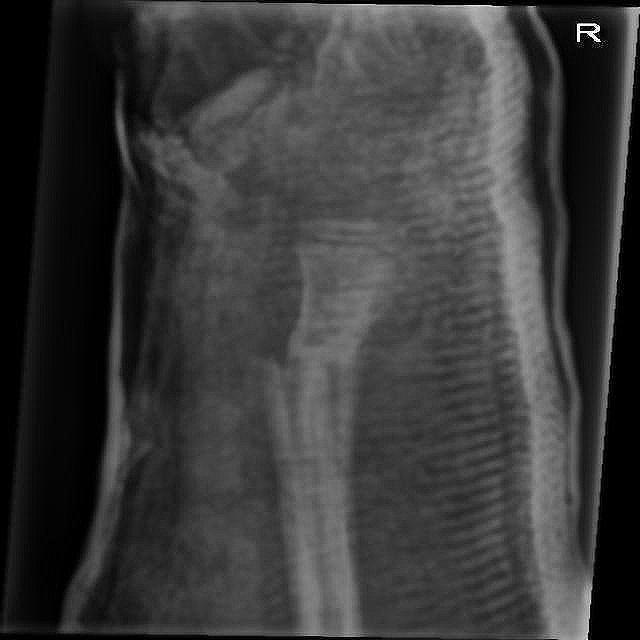bone: (248, 338, 368, 393)
